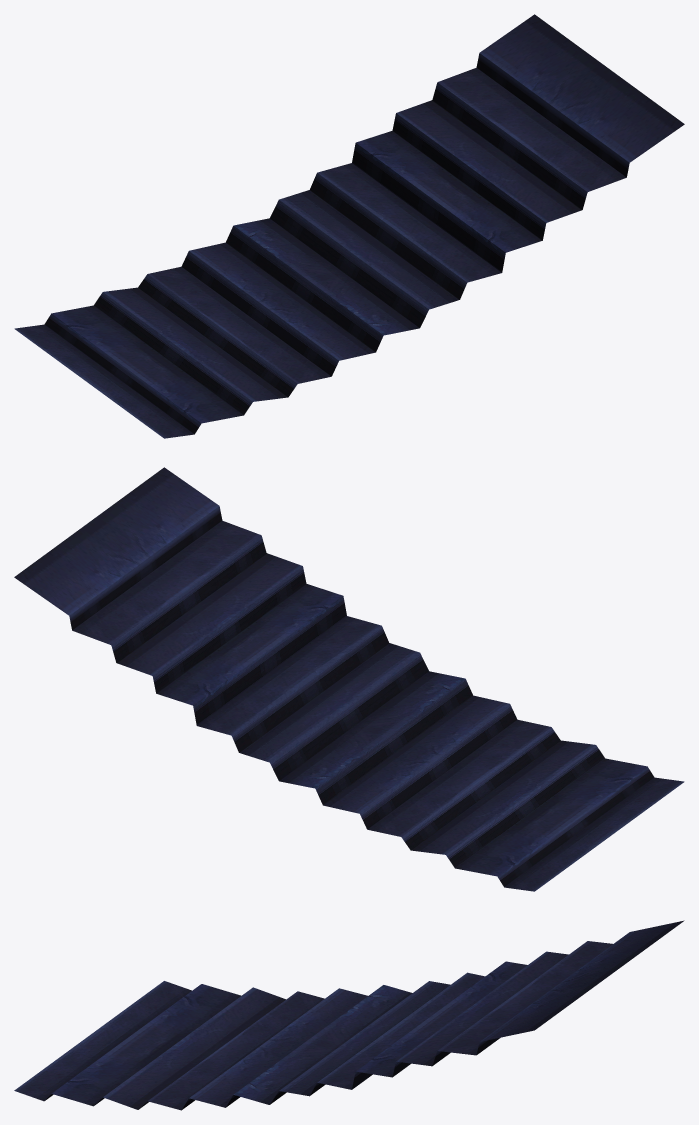
Rendered from palace_bridge_transition_02.fbx.
The picture shows the model from 3 angles, top to bottom: view 1: azimuth 30°, elevation 25°; view 2: azimuth 150°, elevation 25°; view 3: azimuth 330°, elevation 25°; orthographic projection.
Parts seen in each view (by area): view 1: palace_tileset/palace_stairs02_shadow_mat; view 2: palace_tileset/palace_stairs02_shadow_mat; view 3: palace_tileset/palace_stairs02_shadow_mat.
Boxes of the visible parts, <box> form: palace_tileset/palace_stairs02_shadow_mat: <box>14,14,684,438</box>; palace_tileset/palace_stairs02_shadow_mat: <box>14,467,684,891</box>; palace_tileset/palace_stairs02_shadow_mat: <box>14,920,684,1110</box>.
Bounding box in the file's own units: 8 × 2.8 × 4.
